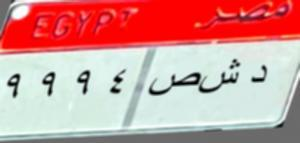4: (106, 69, 128, 98)
9: (4, 69, 25, 102), (74, 68, 94, 101), (40, 70, 58, 101)
daal: (250, 61, 270, 93)
saad: (148, 70, 200, 99)
sheen: (200, 58, 242, 95)
